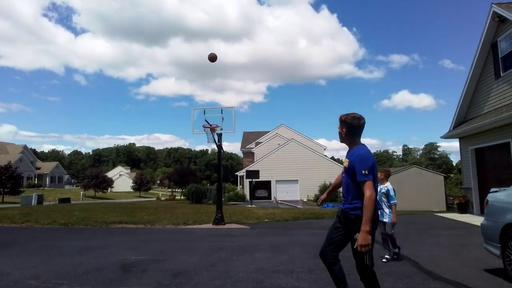ball: (208, 53, 218, 62)
human: (318, 112, 381, 288), (377, 168, 401, 263)
rim: (202, 124, 218, 142)
